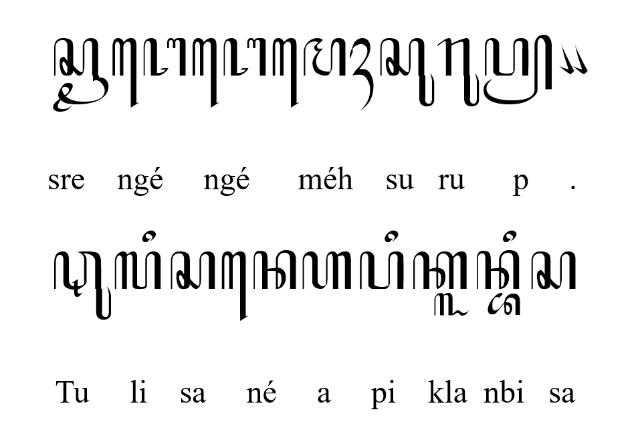-p: (483, 34, 553, 104)
Tu: (54, 250, 112, 320)
_b: (487, 292, 521, 316)
_h1: (349, 38, 375, 112)
_l: (434, 292, 471, 318)
e1: (192, 36, 220, 108), (222, 251, 250, 322), (112, 37, 140, 107), (271, 38, 299, 108)
h: (301, 250, 353, 290)
i: (384, 229, 400, 243), (501, 229, 517, 243), (142, 229, 156, 242)
k: (412, 250, 468, 290)
kom: (559, 44, 575, 74), (572, 44, 588, 74)
l: (115, 252, 162, 291)
m: (303, 37, 347, 77)
n: (253, 250, 297, 290), (476, 250, 520, 290)
nga: (222, 36, 266, 76), (144, 37, 186, 77)
p: (358, 251, 404, 289)
ru: (436, 38, 480, 107)
s: (169, 250, 215, 290), (531, 250, 577, 290)
sre: (51, 38, 109, 112)
su: (379, 38, 435, 106)
